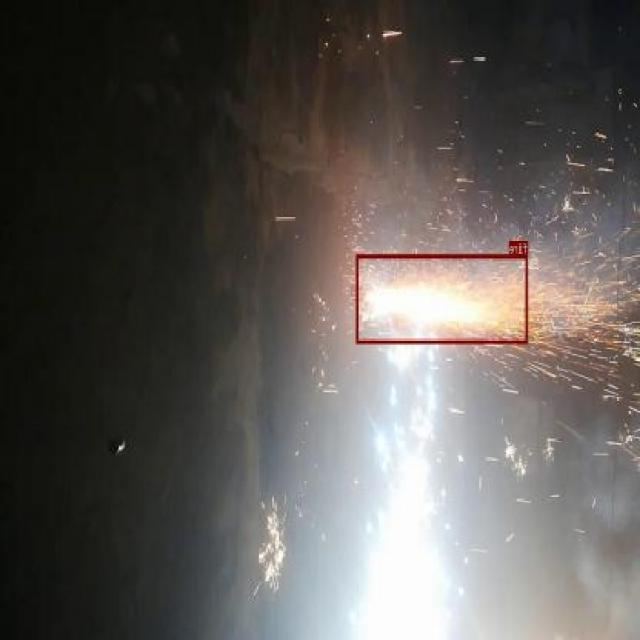Fire: (356, 254, 529, 343)
